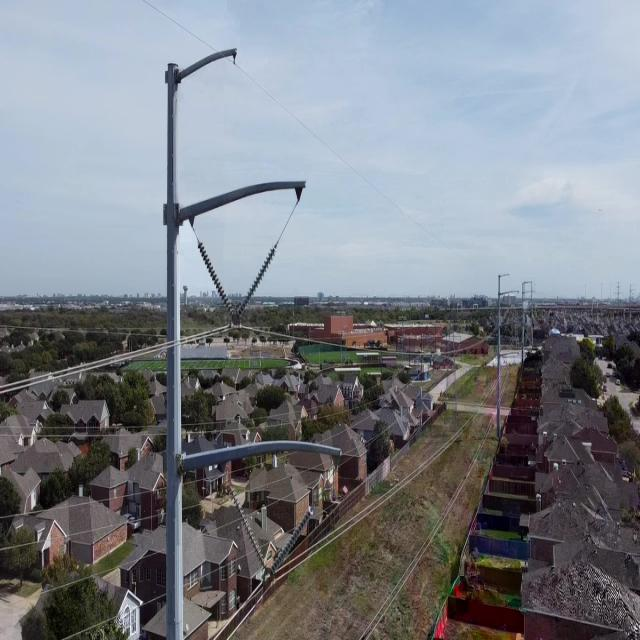正常绝缘子: (258, 498, 323, 592), (222, 477, 275, 584), (229, 234, 284, 331), (191, 227, 237, 327)
